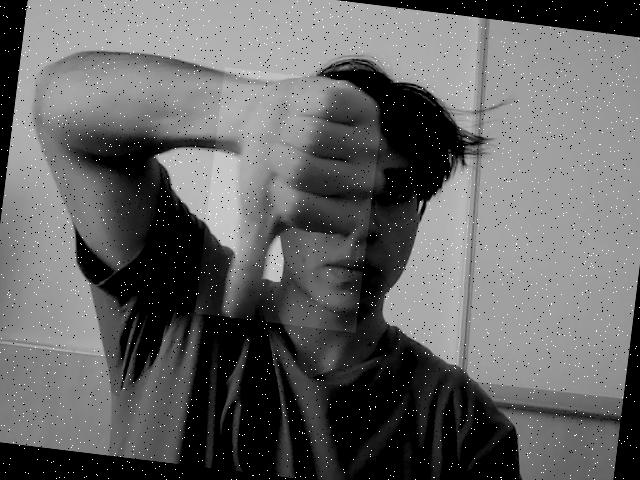bad: (194, 67, 385, 333)
